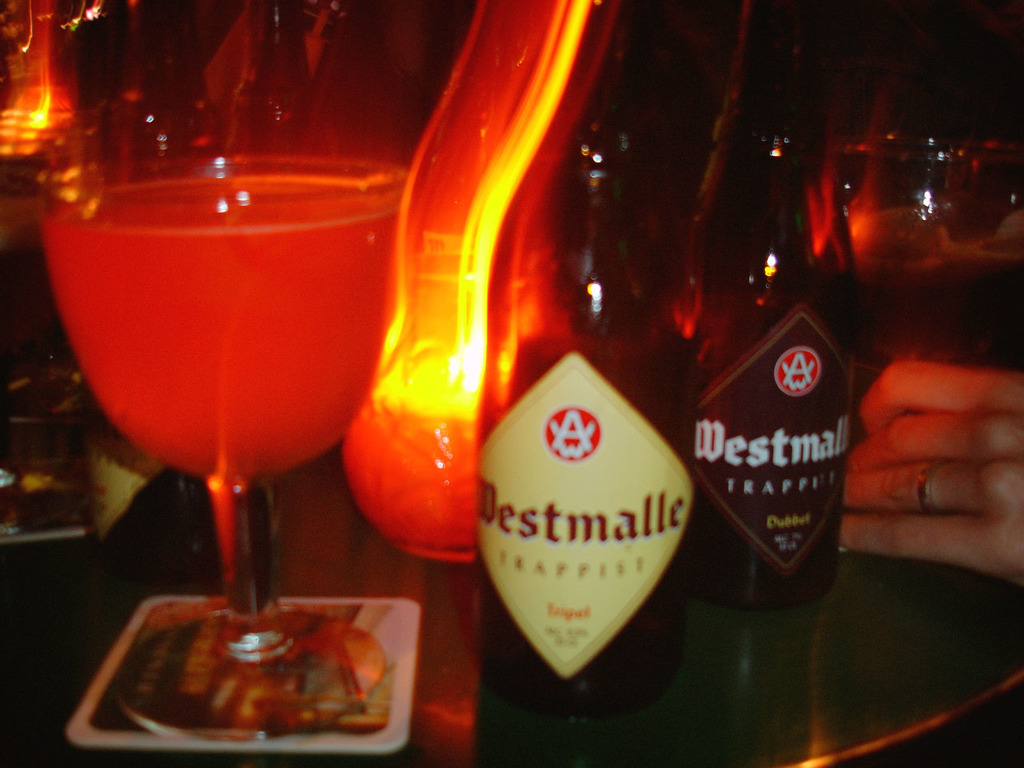Beer: (19, 0, 453, 759), (687, 3, 868, 639)
